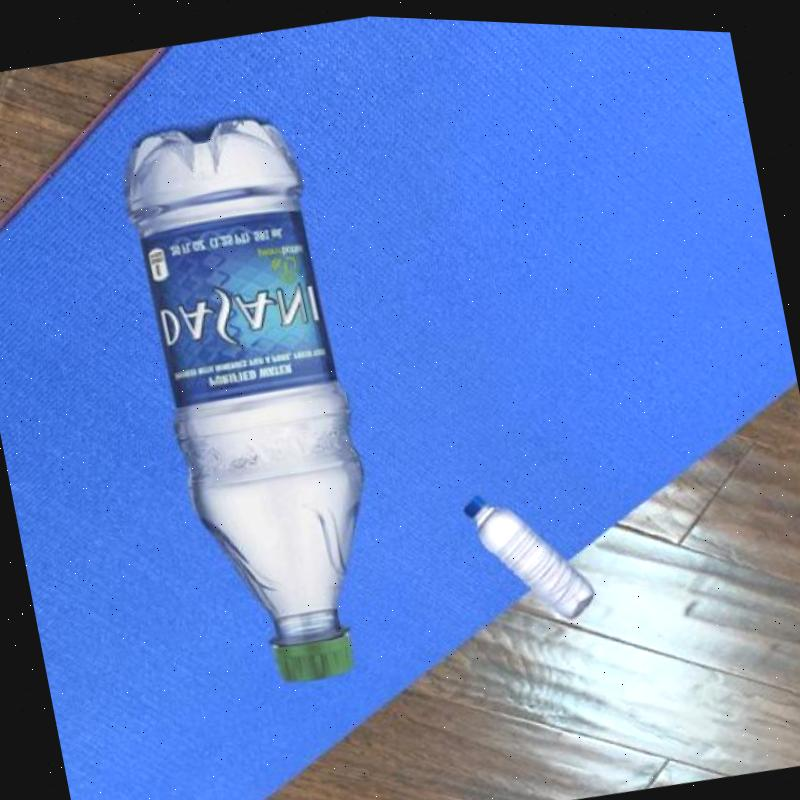botella: (112, 100, 404, 700), (457, 471, 599, 632)
